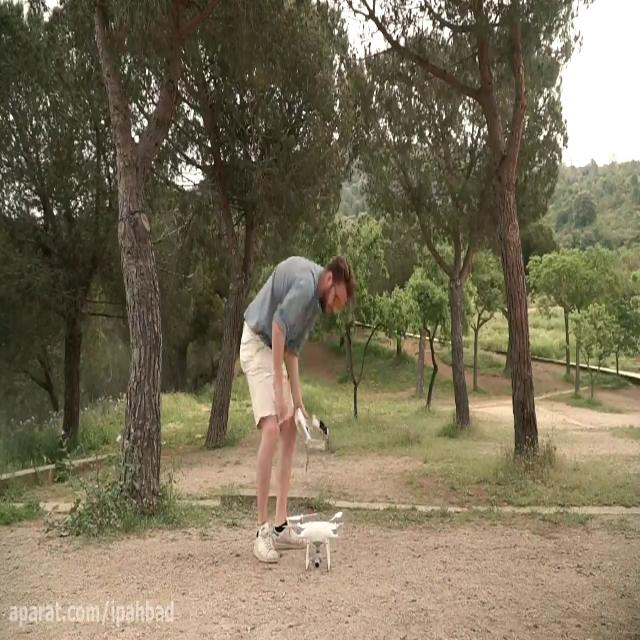drone: (285, 503, 347, 575)
